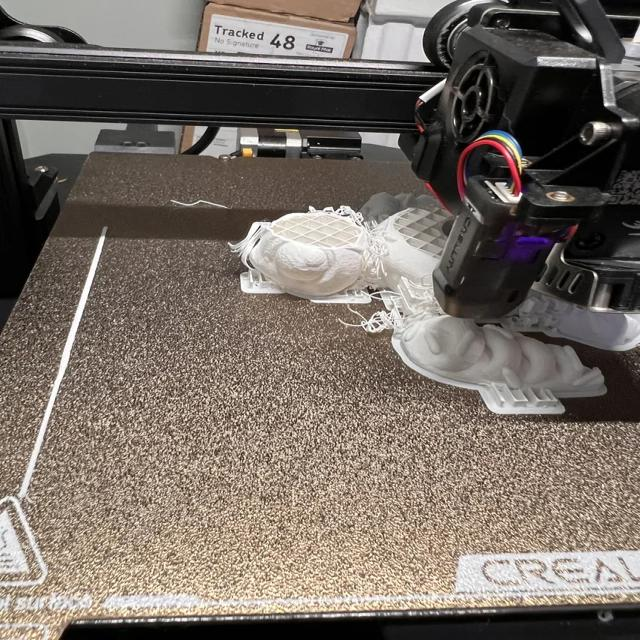Spaghetti: (359, 205, 435, 335), (222, 216, 269, 276)
